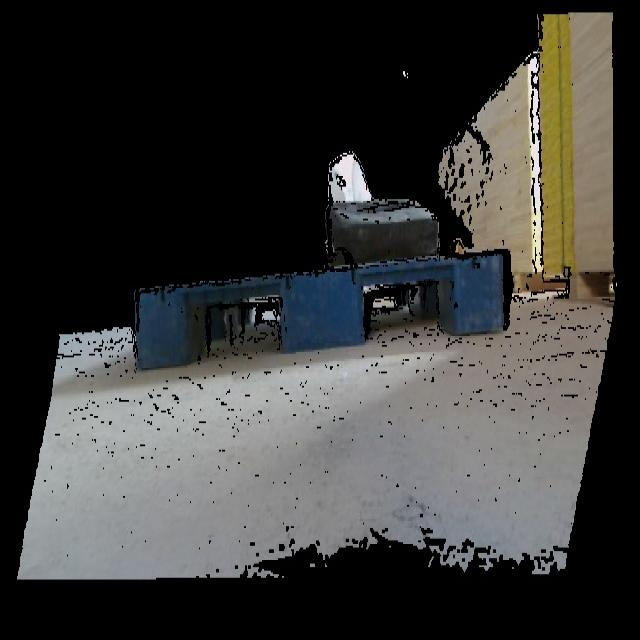block: (277, 274, 366, 349), (133, 287, 200, 374), (451, 257, 509, 334)
front: (129, 256, 514, 375)
